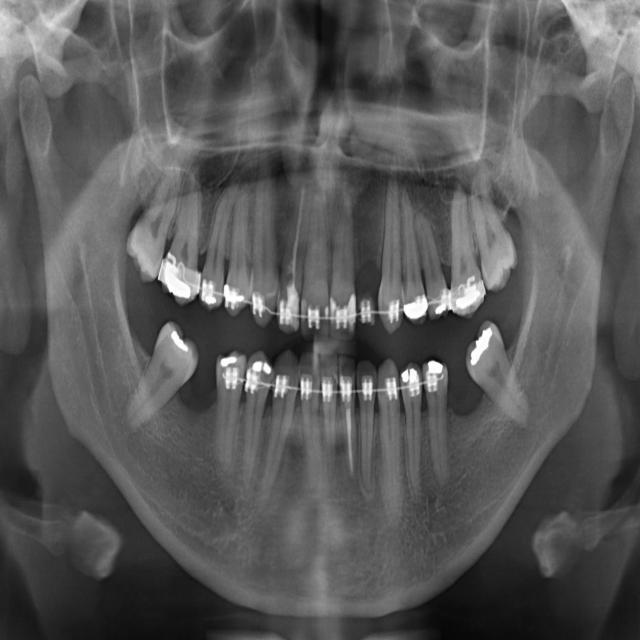AGS Medikal Implant: (456, 317, 536, 435)
Amalgam filling: (119, 152, 186, 284)
Anthogyr Implant: (418, 357, 459, 491)
Bicon Implant: (400, 370, 426, 504)
BioHorizons Implant: (371, 359, 408, 513)
BioLife Implant: (355, 363, 374, 485)
Biomet 3i Implant: (336, 358, 361, 489)
Blue Sky Bio Implant: (319, 358, 336, 467)
Camlog Implant: (295, 360, 321, 469)
Composite filling: (263, 352, 300, 493)
Cowellmedi Implant: (236, 353, 272, 482)
Crown: (204, 343, 247, 461)
DENTSPLY Implant: (158, 177, 204, 309)
Dentis Implant: (120, 321, 208, 439)
Euroteknika Implant: (197, 184, 241, 309)
Filling: (225, 187, 254, 316)
Frontier Implant: (248, 172, 281, 326)
Hiossen Implant: (378, 177, 412, 330)
Implant: (325, 246, 325, 247)
Implant Direct: (275, 180, 312, 331)
Keystone Dental Implant: (330, 190, 354, 329)
MIS Implant: (404, 188, 430, 314)
Mandible: (416, 213, 450, 314)
Maxilla: (449, 183, 487, 309)
Megagen Implant: (461, 175, 520, 287)
